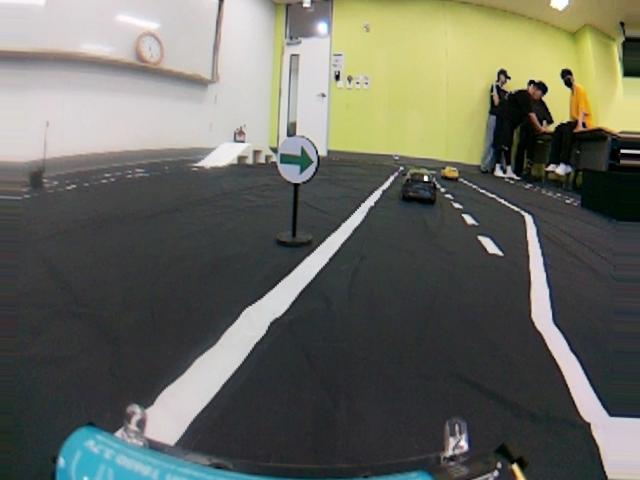car: (401, 167, 437, 206), (437, 166, 461, 182)
sign_right: (276, 137, 321, 185)
straight: (5, 173, 640, 480)
